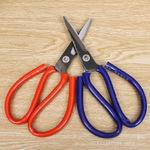scissor: (4, 15, 93, 136), (62, 13, 148, 138)
